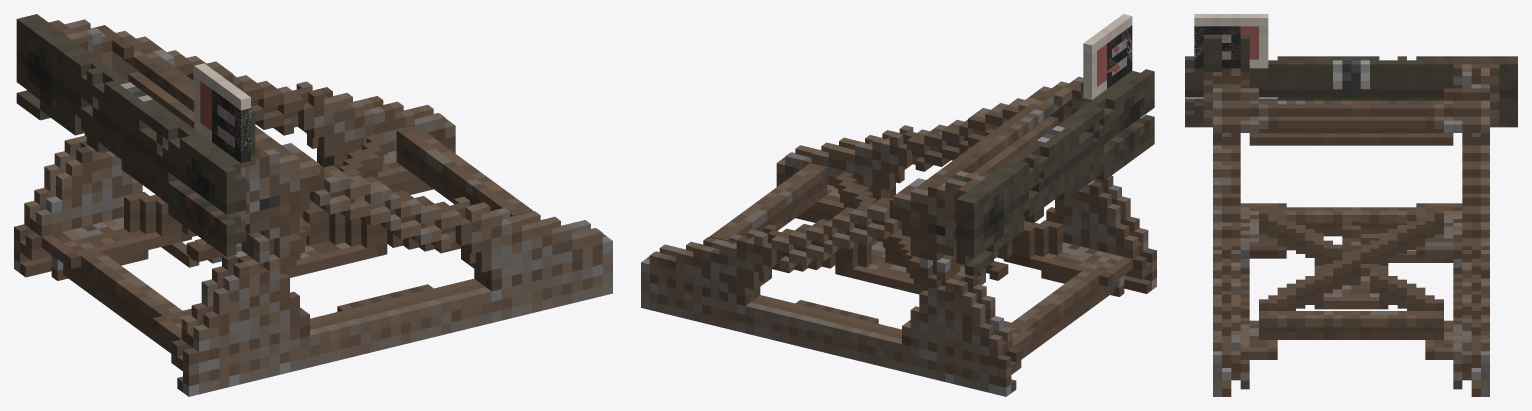
File: rawie_typ_4_wood1_rust.obj
3 renders of one model, left to right at view 1: azimuth 30°, elevation 25°; view 2: azimuth 150°, elevation 25°; view 3: azimuth 270°, elevation 25°, orthographic. The views are drawn at different scales.
Visible parts, largest first — view 1: FRAME_2, FRAME_1, WIDGET_1_TOGGLE_HIDE_CG_sh, WIDGET_2_TOGGLE_HIDE_INVERT_CG_sh_NOTOUCH; view 2: FRAME_2, FRAME_1, WIDGET_1_TOGGLE_HIDE_CG_sh, WIDGET_2_TOGGLE_HIDE_INVERT_CG_sh_NOTOUCH; view 3: FRAME_2, FRAME_1, WIDGET_1_TOGGLE_HIDE_CG_sh, WIDGET_2_TOGGLE_HIDE_INVERT_CG_sh_NOTOUCH.
Boxes of the visible parts, left/top/right/bottom form: FRAME_2: left=14, top=25, right=612, bottom=396; FRAME_1: left=16, top=14, right=269, bottom=256; WIDGET_1_TOGGLE_HIDE_CG_sh: left=194, top=63, right=255, bottom=166; WIDGET_2_TOGGLE_HIDE_INVERT_CG_sh_NOTOUCH: left=212, top=89, right=250, bottom=163; FRAME_2: left=641, top=76, right=1156, bottom=396; FRAME_1: left=936, top=69, right=1154, bottom=276; WIDGET_1_TOGGLE_HIDE_CG_sh: left=1083, top=14, right=1132, bottom=99; WIDGET_2_TOGGLE_HIDE_INVERT_CG_sh_NOTOUCH: left=1107, top=25, right=1132, bottom=88; FRAME_2: left=1213, top=88, right=1489, bottom=396; FRAME_1: left=1185, top=56, right=1517, bottom=127; WIDGET_1_TOGGLE_HIDE_CG_sh: left=1194, top=14, right=1268, bottom=80; WIDGET_2_TOGGLE_HIDE_INVERT_CG_sh_NOTOUCH: left=1194, top=26, right=1240, bottom=71.
Size of the model in its own units: 2.62 by 1.75 by 2.25.
1 material, 1 textured.
